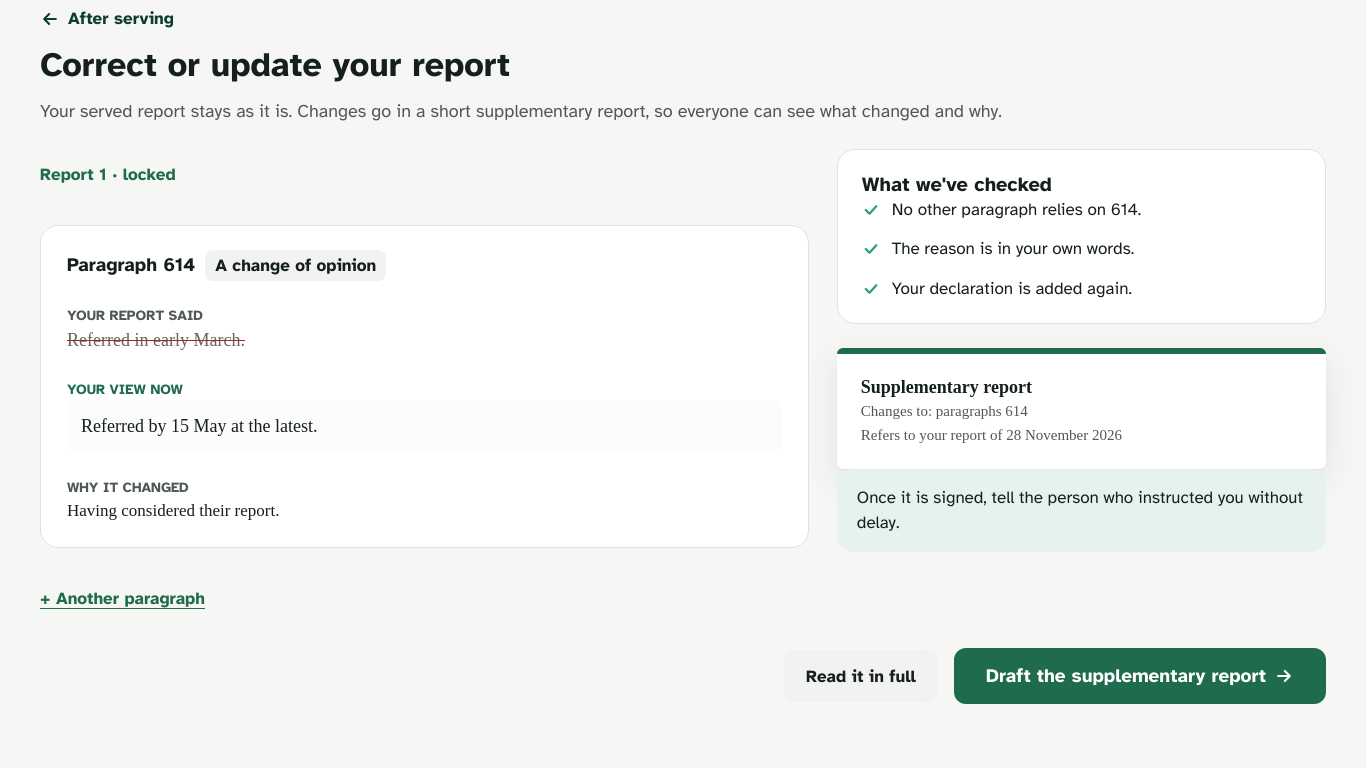
it: the supplementary report is drafted from the changes; with none it explains
(page scrolled)
Click the button "Draft the supplementary report": coordinates (1140, 676) left=954, top=648, right=1326, bottom=704
(page scrolled)
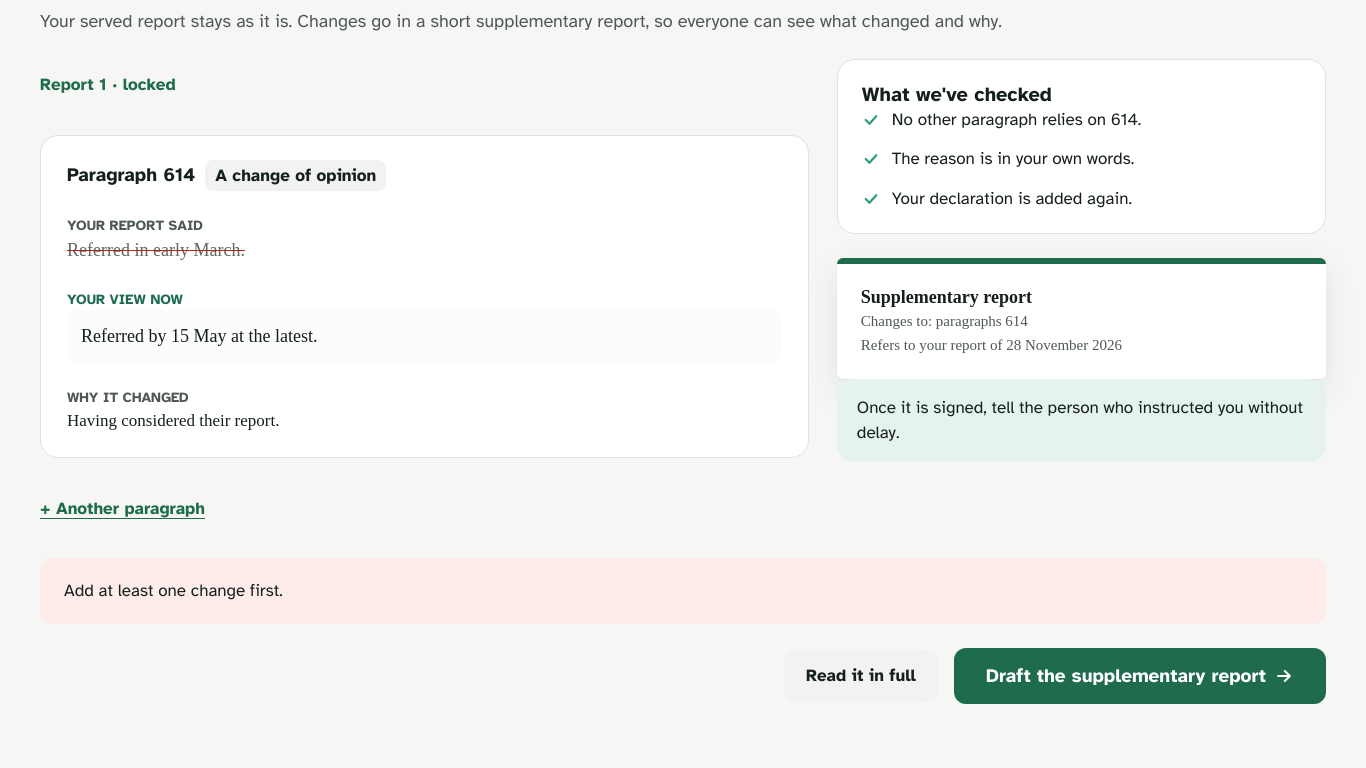
Expected: the text "Add at least one change first." is shown, left=64, top=580, right=283, bottom=601
Click the button "Draft the supplementary report": coordinates (1140, 676) left=954, top=648, right=1326, bottom=704
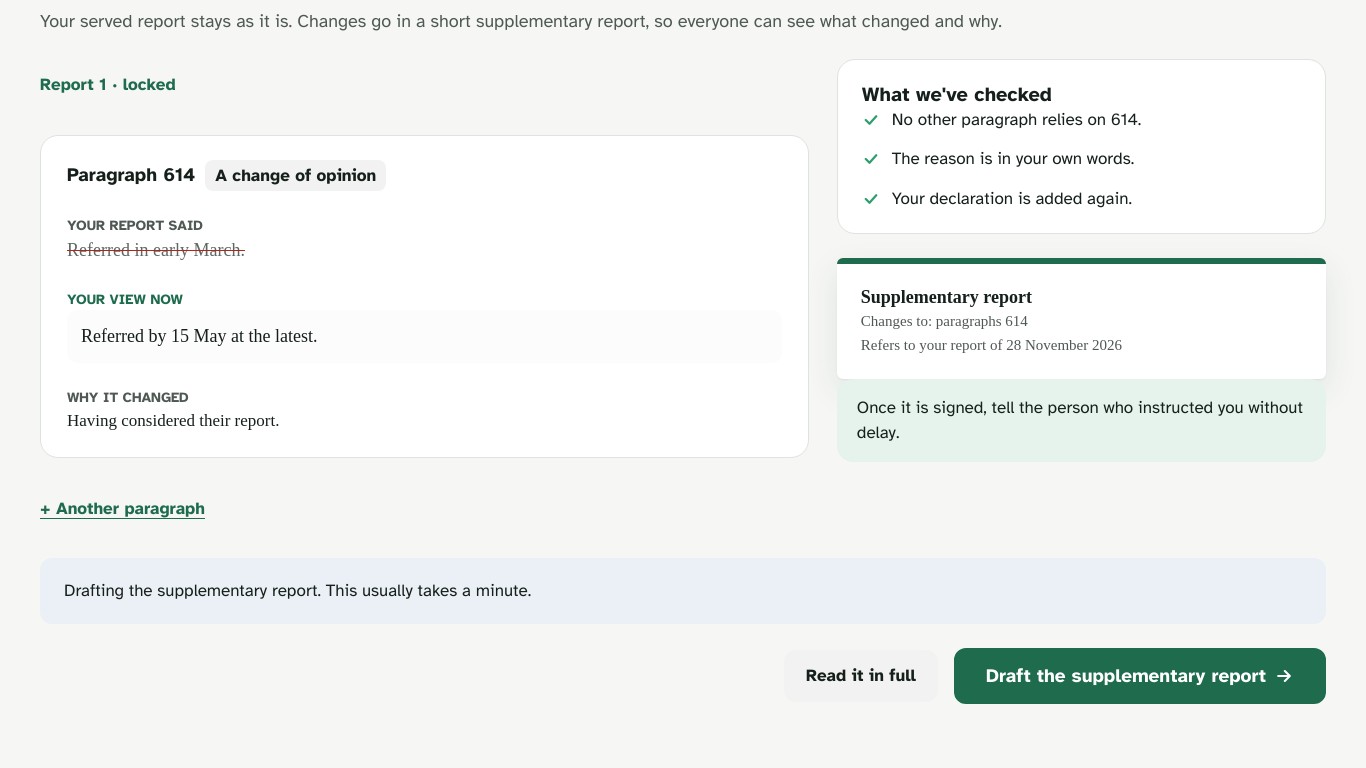
Expected: the text "Drafting the supplementary report. This usually takes a minute." is shown, left=64, top=580, right=531, bottom=601
